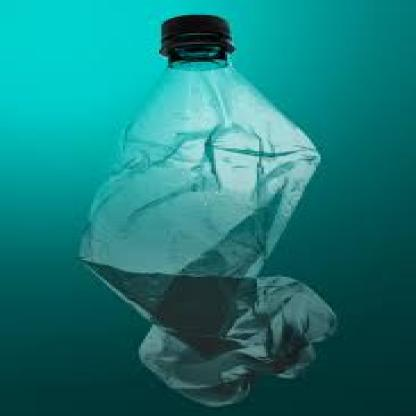Glass Bottle: (72, 15, 350, 407)
